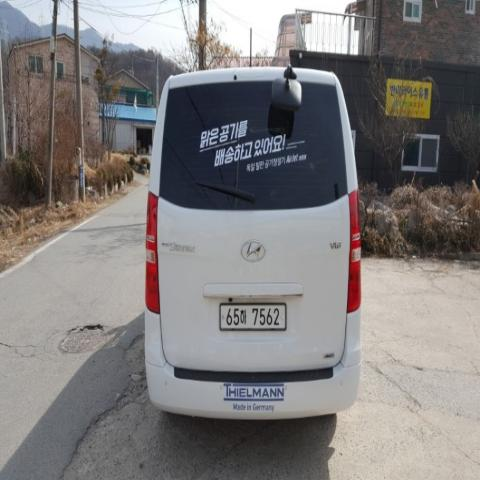LP: (216, 292, 290, 340)
